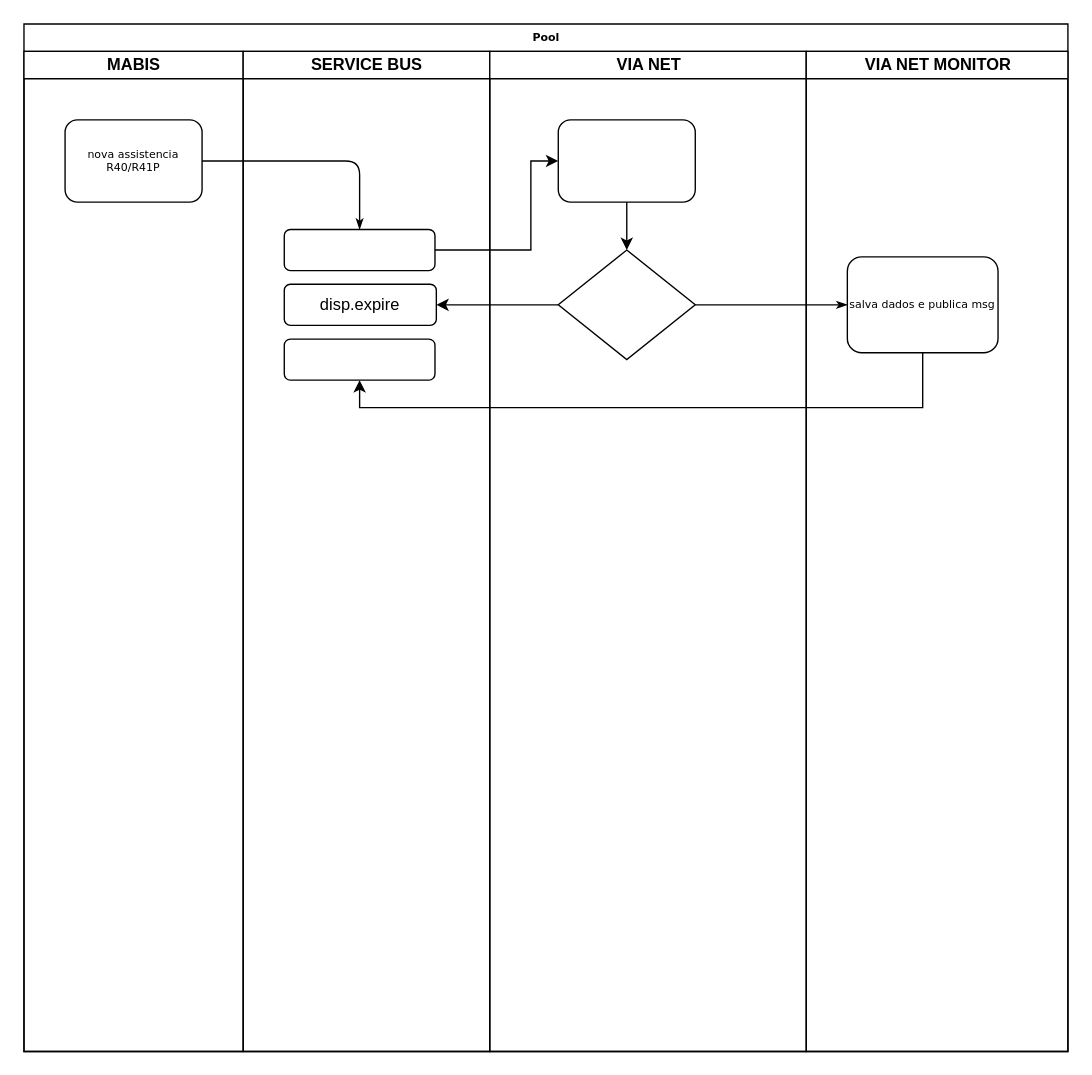
This 1092x1075 diagram has some shape labels left out. The centre of each missing label's shape, as x and y in pixels:
ACEITO ANTES DE X MINUTOS?: the point at 626,304
disp.accept: the point at 359,359
disp.trydisp: the point at 359,249
NOVA SOLICITACAO: the point at 626,160
